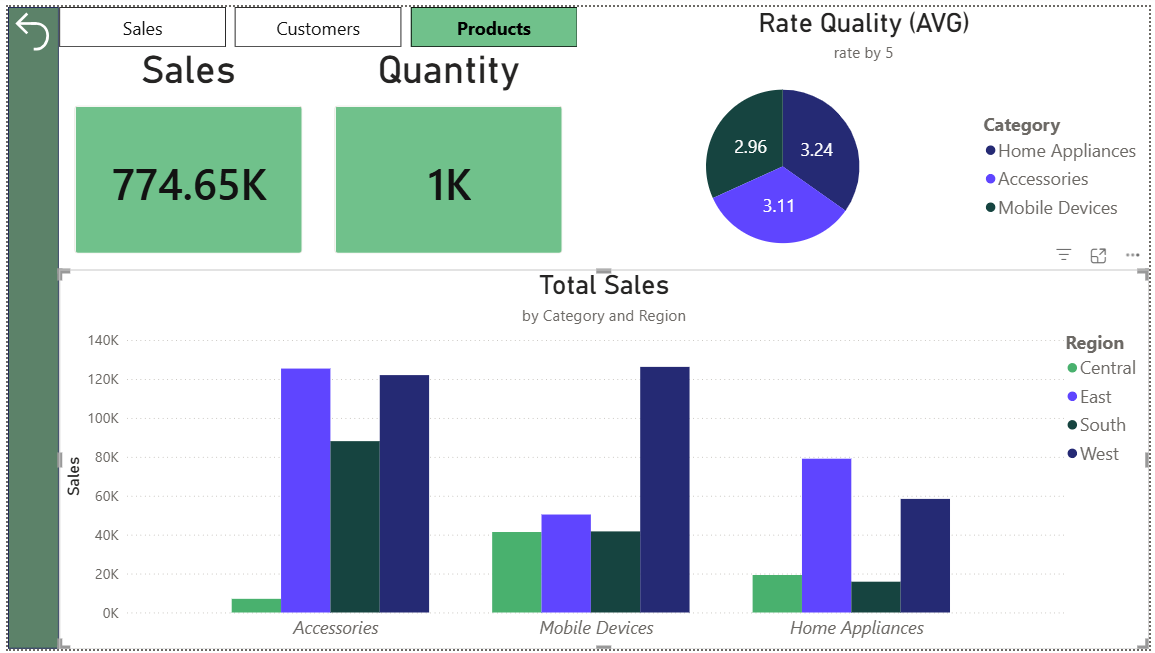

What the dashboard file says about the page in this screenshot:
{"tool":"powerbi","page":{"name":"Products","canvas":[1280,720],"ordinal":2},"visuals":[{"type":"shape","box":[0,0,57,719.8],"z":0},{"type":"pageNavigator","box":[57.6,0,581.8,45.3],"z":1000},{"type":"actionButton","box":[0,0,57.6,54.9],"z":2000},{"type":"clusteredColumnChart","fields":{"Category":["products.Category"],"Y":["sales_data_final.Total Sales"],"Series":["customers.Region"]},"box":[57.6,295,1222.6,425.4],"z":3000},{"type":"cardVisual","title":"Sales","fields":{"Data":["sales_data_final.Total Sales"]},"box":[57.6,45.3,290,249.7],"z":4000},{"type":"cardVisual","title":"Quantity","fields":{"Data":["Sum(sales_data_final.Quantity)"]},"box":[348.5,45.3,290.9,249.7],"z":5000},{"type":"pieChart","title":"Rate Quality (AVG)","fields":{"Category":["products.Category"],"Y":["Avg(customer_feedback_final.Product Quality Rating)"]},"box":[639.5,0,640.8,295],"z":6000}]}

Visuals, with their boxes on the page's 1280x720 design canvas (x1, y1, x2, y2). These are canvas units, not pixel positions in the 1155x653 screenshot, which may show the page scaled, cropped or inside an application window:
shape: bbox=(0, 0, 57, 720)
pageNavigator: bbox=(58, 0, 639, 45)
actionButton: bbox=(0, 0, 58, 55)
clusteredColumnChart - products.Category x sales_data_final.Total Sales: bbox=(58, 295, 1280, 720)
"Sales" cardVisual: bbox=(58, 45, 348, 295)
"Quantity" cardVisual: bbox=(348, 45, 639, 295)
"Rate Quality (AVG)" pieChart: bbox=(640, 0, 1280, 295)
